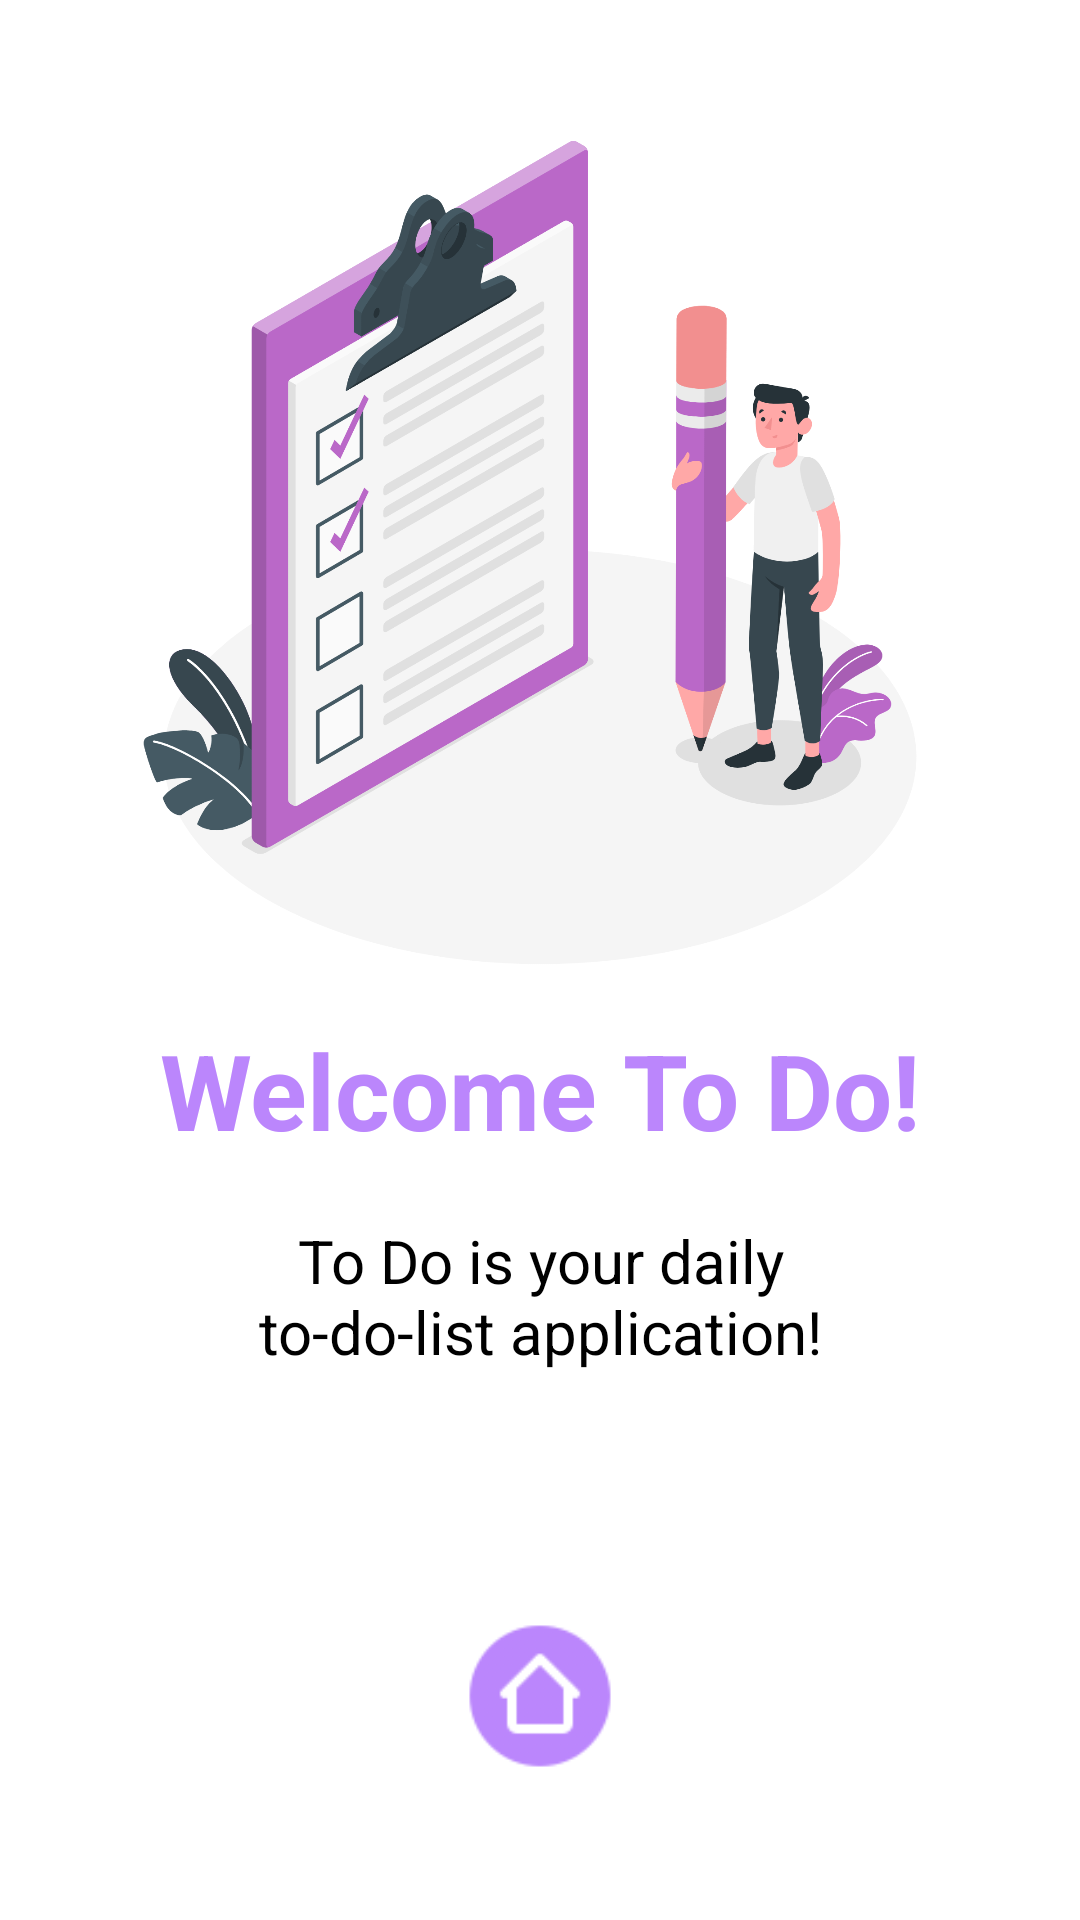

Where icons sit on this 1080 x 1920 app screen, as (x1, y1, x2, y2):
home: (469, 1625, 611, 1767)
